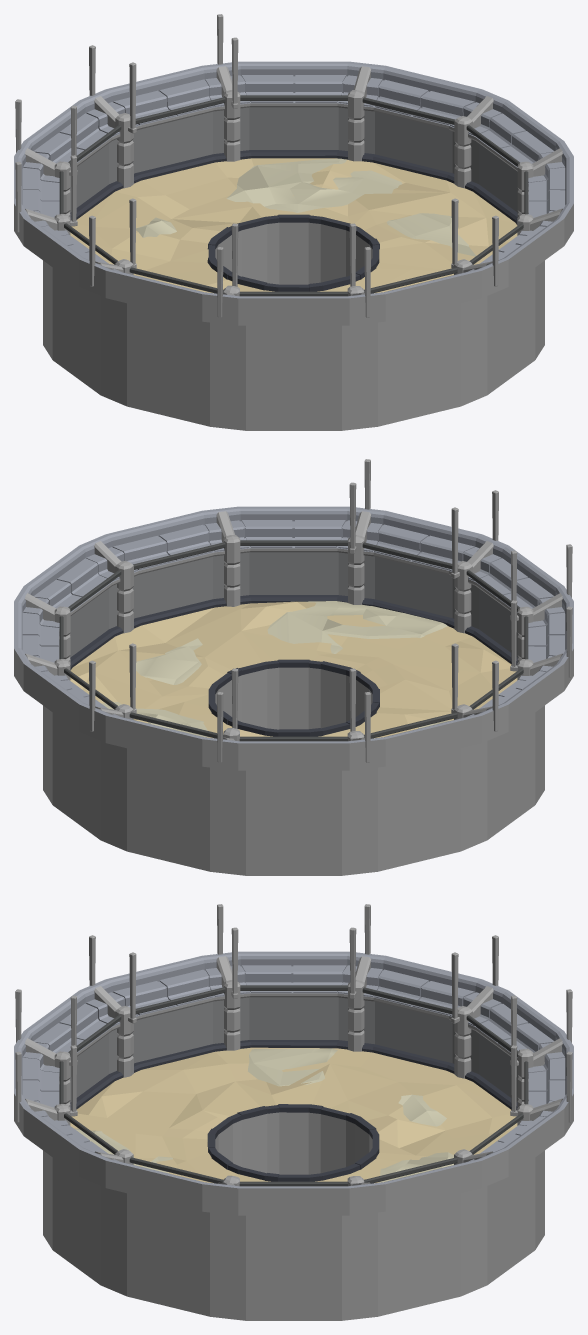
The model's file is Arena_Base.fbx.
3 renders of one model, top to bottom at view 1: azimuth 30°, elevation 25°; view 2: azimuth 150°, elevation 25°; view 3: azimuth 270°, elevation 25°, orthographic.
Visible parts, largest first — view 1: Arena, Seats, Arena1; view 2: Arena, Seats, Arena1; view 3: Arena, Seats, Arena1.
Boxes of the visible parts, left/top/right/bottom form: Arena: left=14, top=14, right=573, bottom=430; Seats: left=23, top=75, right=565, bottom=271; Arena1: left=136, top=158, right=475, bottom=280; Arena: left=14, top=459, right=573, bottom=875; Seats: left=22, top=520, right=564, bottom=716; Arena1: left=102, top=601, right=450, bottom=737; Arena: left=14, top=904, right=573, bottom=1320; Seats: left=22, top=965, right=565, bottom=1161; Arena1: left=74, top=1048, right=453, bottom=1182.
Size of the model in its own units: 2250 by 857 by 2250.
